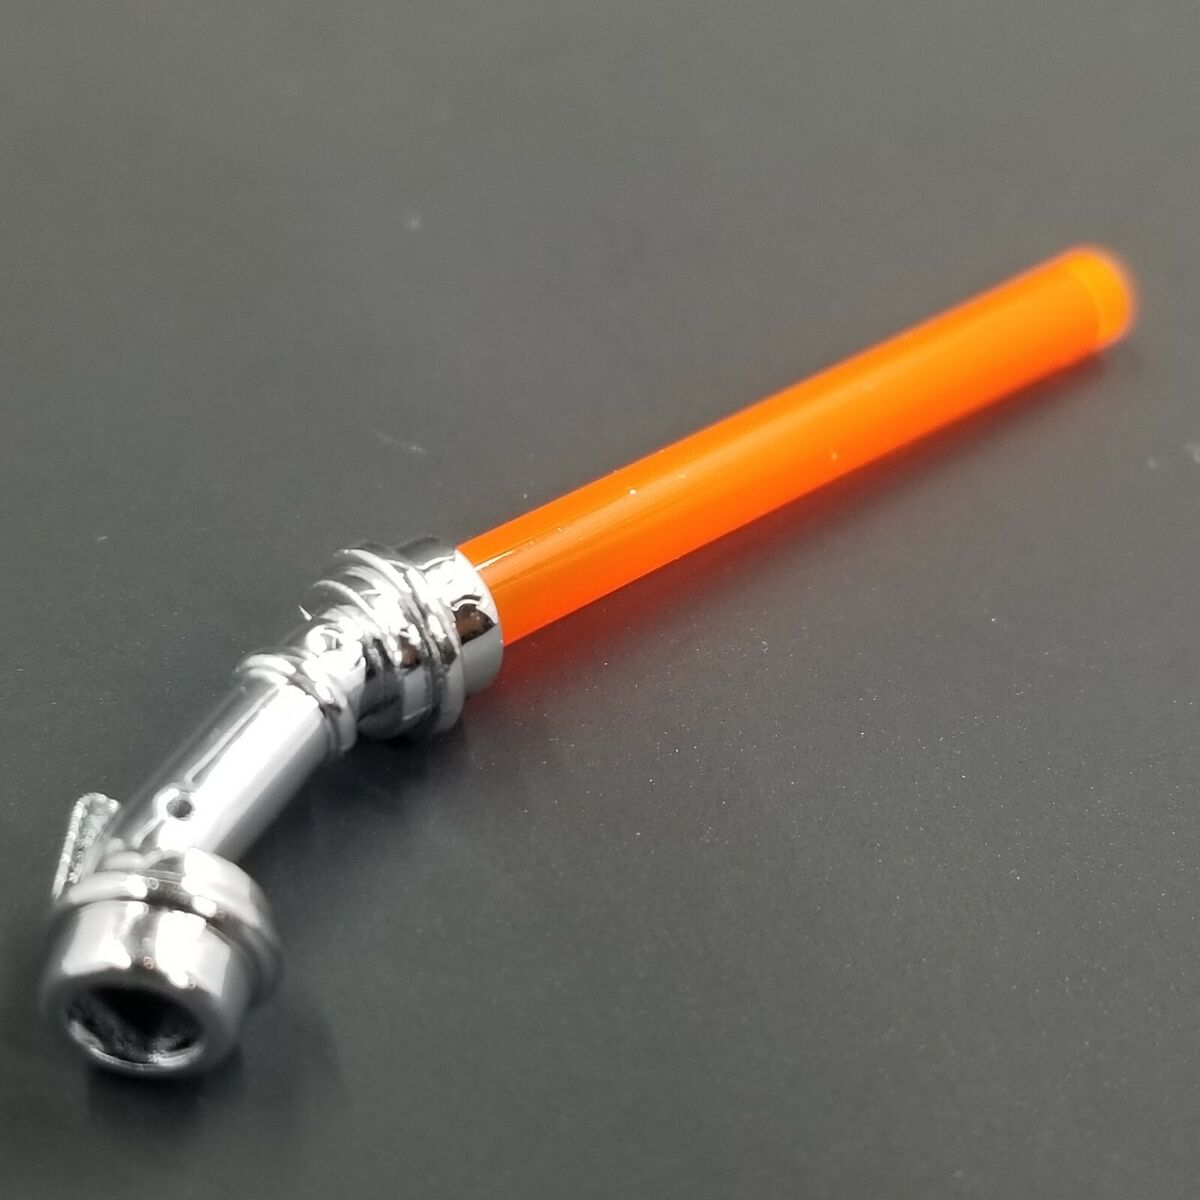lightsaber: (0, 267, 1176, 1063)
